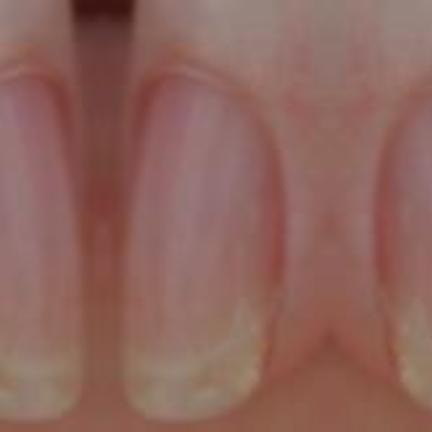Nail: (121, 72, 282, 421), (0, 72, 83, 421), (377, 88, 432, 412)
